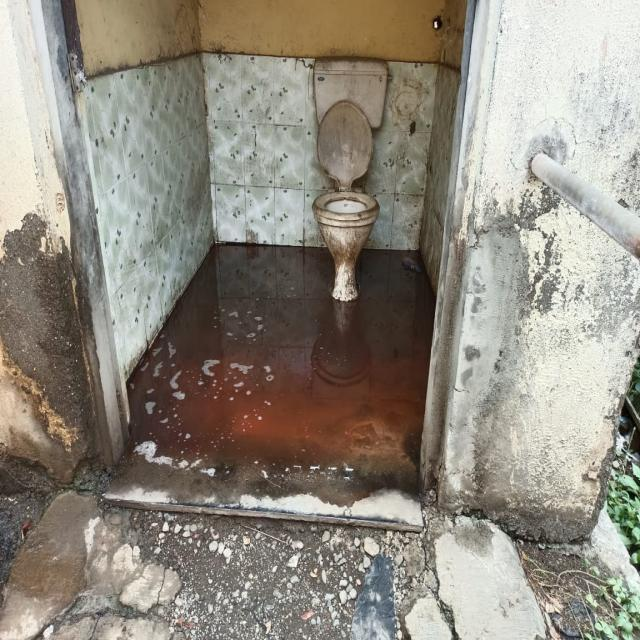dirty_floor: (2, 6, 637, 637), (2, 478, 635, 638), (200, 51, 447, 249)
